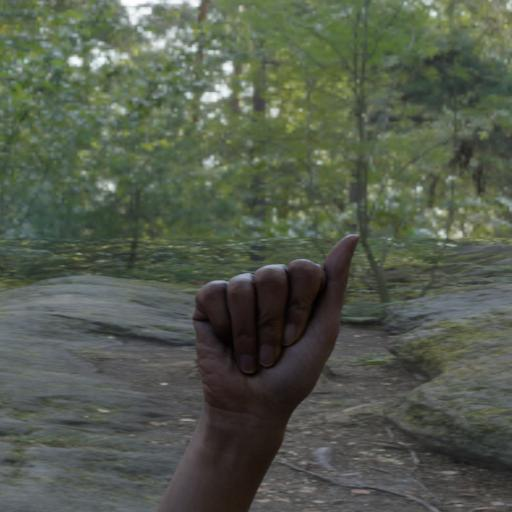A: (173, 224, 368, 474)
